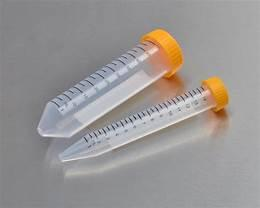Test tube: (17, 17, 219, 170)
